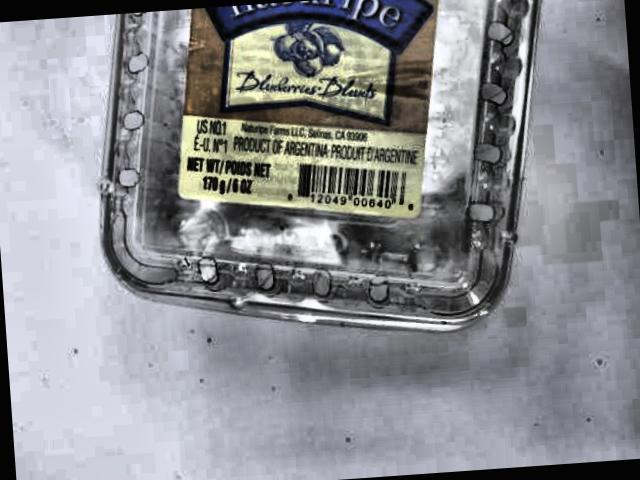Plastic: (77, 0, 546, 362)
